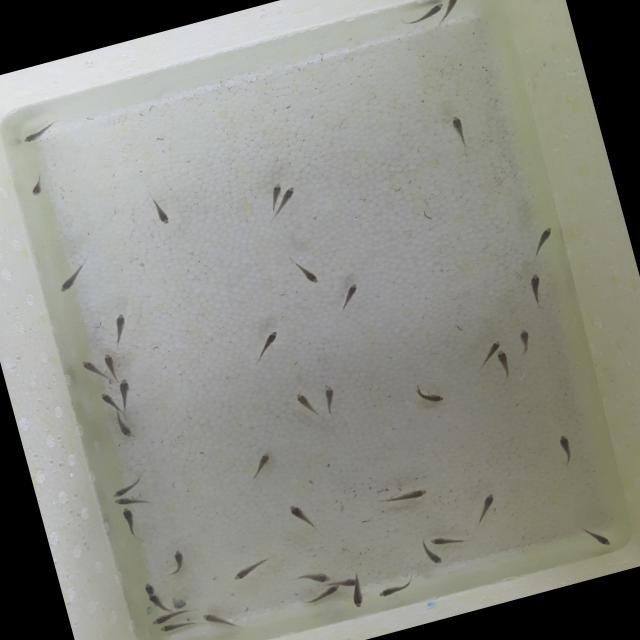fingerling: (51, 254, 98, 294), (376, 484, 431, 509), (524, 223, 562, 259), (226, 555, 274, 583), (550, 428, 582, 470), (199, 603, 242, 634), (578, 519, 616, 554), (18, 118, 63, 146), (444, 109, 473, 152), (523, 270, 551, 312), (243, 449, 278, 482), (374, 574, 418, 600), (108, 472, 150, 499), (292, 388, 321, 426), (410, 384, 448, 412), (471, 490, 502, 523), (251, 331, 284, 362), (285, 499, 315, 533), (112, 489, 156, 512), (317, 383, 343, 421), (492, 347, 518, 384), (428, 526, 468, 550), (146, 193, 173, 228), (405, 0, 446, 23), (162, 546, 191, 578), (334, 282, 364, 312), (118, 504, 142, 541), (512, 325, 537, 360), (304, 582, 342, 604), (109, 310, 132, 346), (158, 616, 199, 636), (294, 566, 331, 588), (112, 409, 137, 441), (115, 376, 138, 409), (98, 350, 121, 382), (290, 258, 316, 286), (24, 171, 50, 199), (150, 608, 188, 627), (98, 388, 122, 417), (348, 580, 370, 610), (79, 355, 103, 380), (278, 183, 304, 206), (165, 590, 194, 610), (422, 544, 444, 570), (436, 0, 464, 18), (263, 178, 284, 201), (146, 590, 165, 610), (484, 336, 504, 354), (340, 574, 360, 590), (141, 577, 156, 595)
